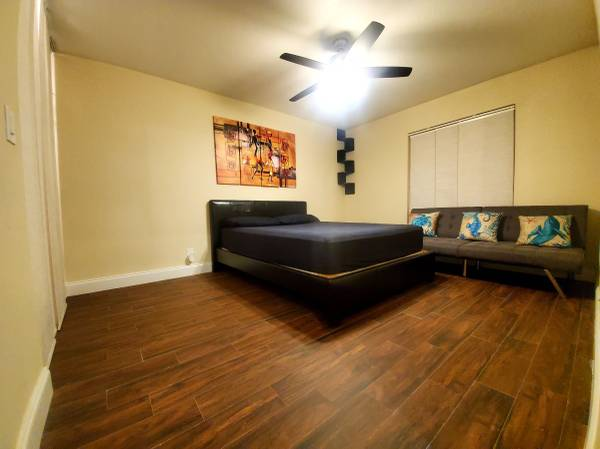bed: (209, 198, 432, 326)
frame: (212, 116, 297, 190)
